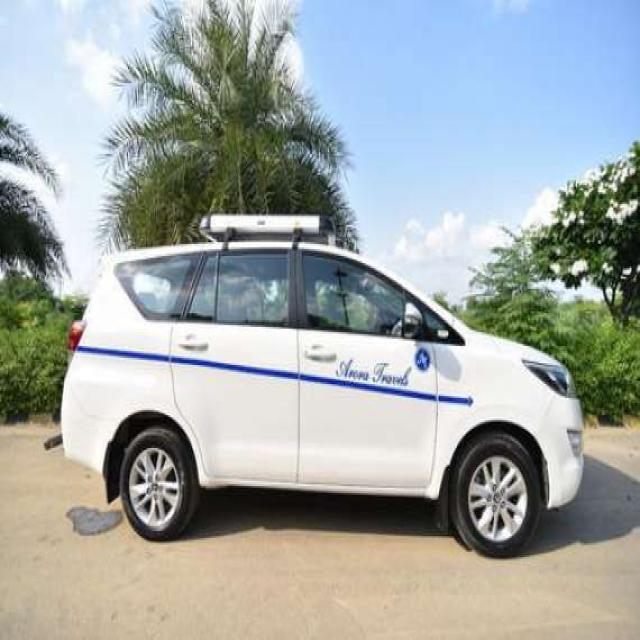light_vehicle: (60, 214, 586, 558)
